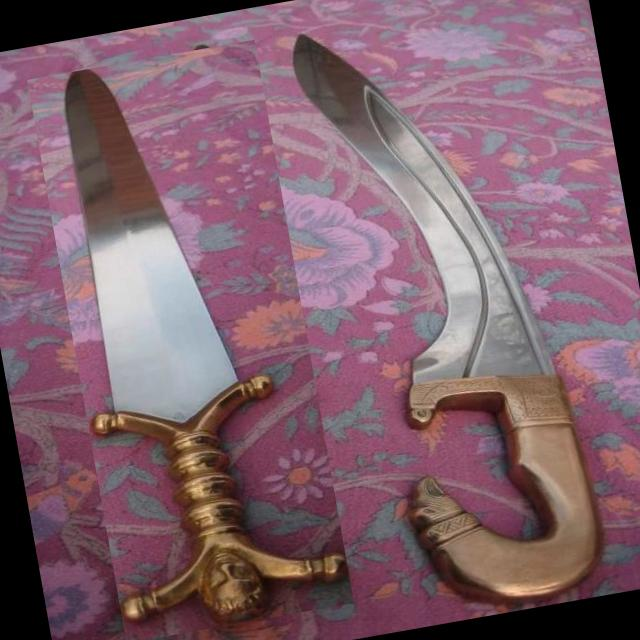Knife: (292, 35, 610, 609), (64, 70, 346, 624)
